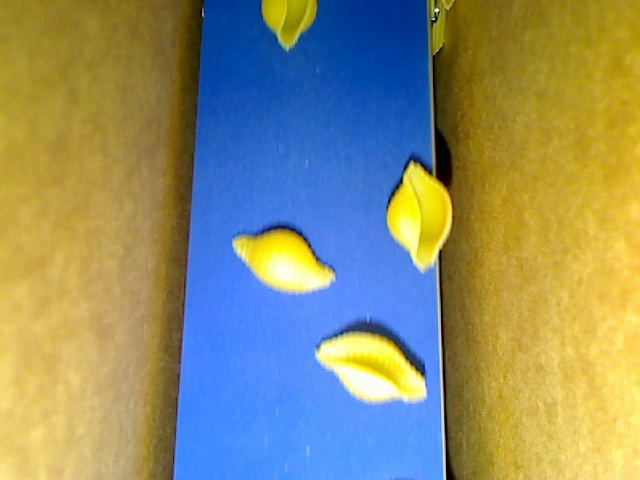penne: (429, 1, 447, 58), (441, 1, 458, 14)
shell: (307, 327, 426, 406), (229, 225, 336, 298), (383, 160, 452, 271), (259, 1, 320, 56)
